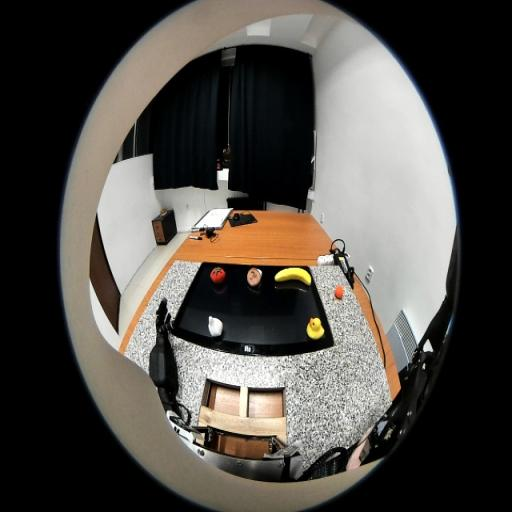Banana: (274, 268, 312, 286)
Duck: (306, 317, 325, 340)
LeftHand: (157, 316, 167, 336)
Mushroom: (247, 268, 263, 287)
Onion: (208, 316, 223, 338)
Orange: (335, 285, 343, 299)
Tomato: (210, 266, 226, 284)
